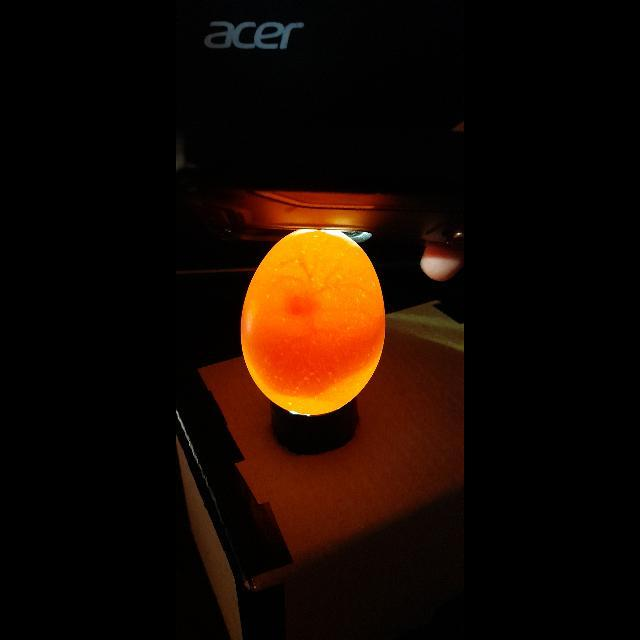B - Fair: (238, 223, 392, 419)
